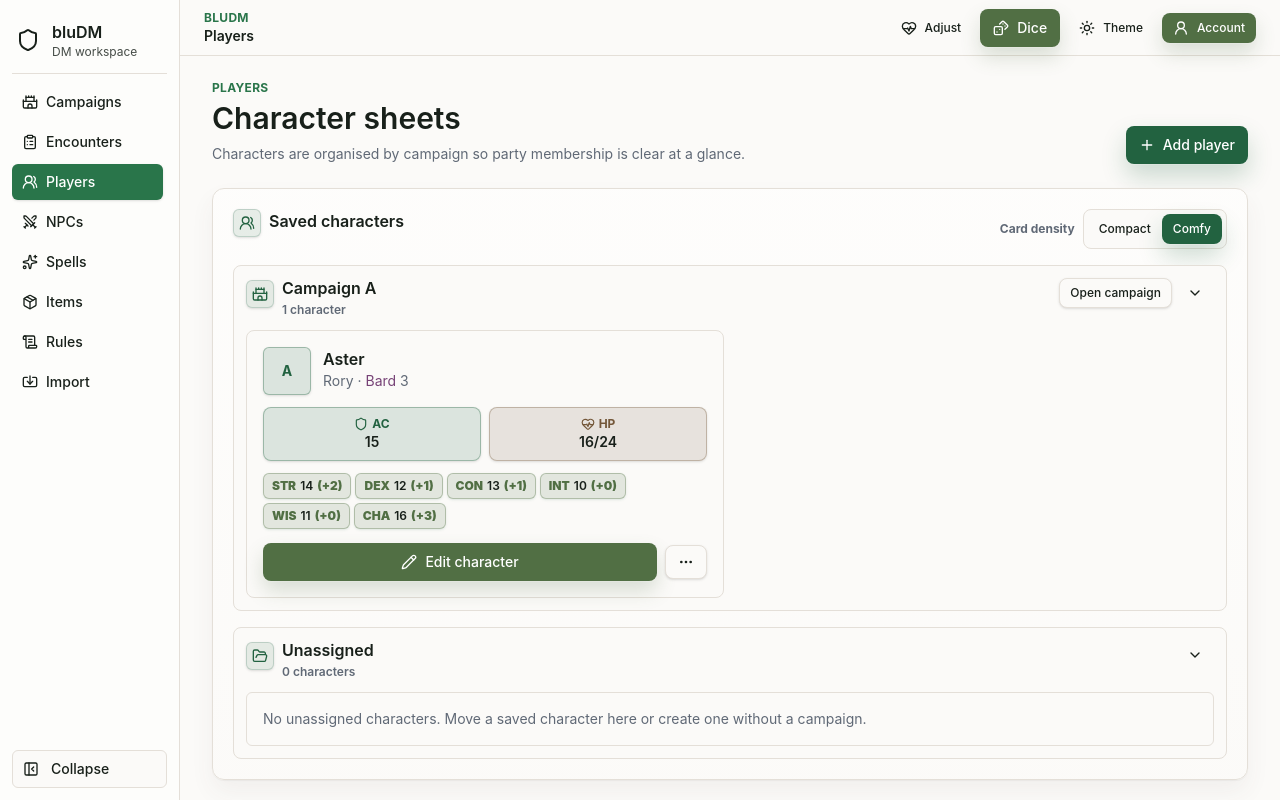
Test: PlayersPage › clones a character into the same campaign and updates its count
The image size is (1280, 800).
Expected: the heading "Aster" is shown, [323,347,365,371]
Click the button named "Character actions for Aster": click(686, 562) [665,545,707,579]
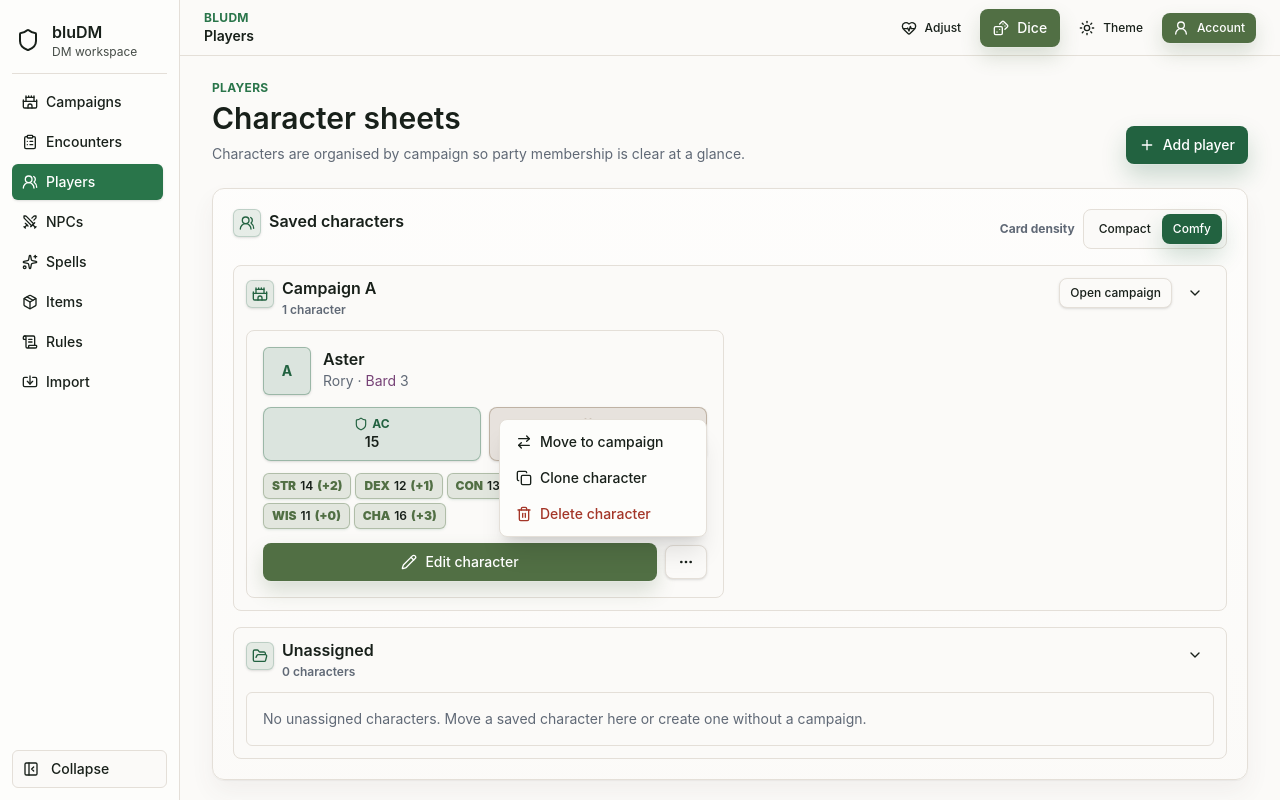
Click the menu item "Clone character": click(603, 478) [504,460,702,496]
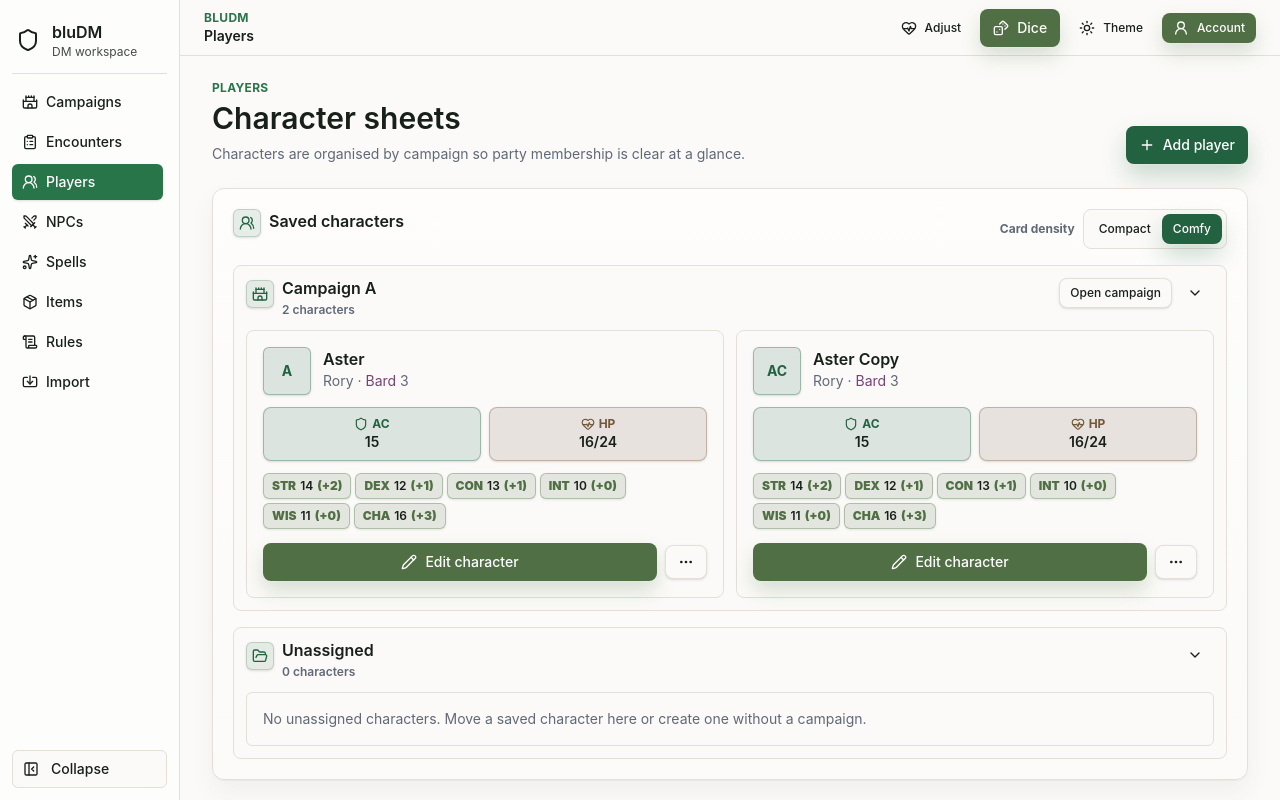
Expected: the heading "Aster Copy" is shown, [813,347,899,371]
Expected: the text "2 characters" is shown, [282,302,355,317]
